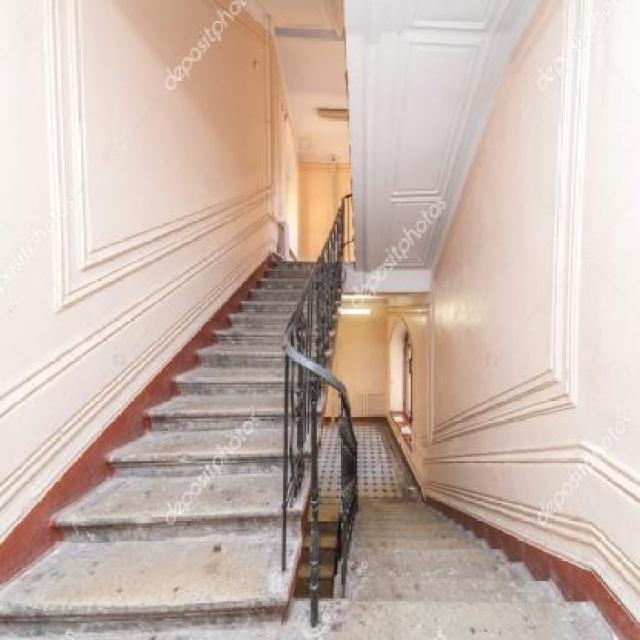stair: (0, 120, 640, 640)
